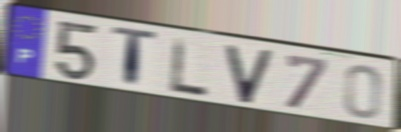0: (342, 63, 384, 121)
5: (53, 18, 101, 82)
7: (283, 51, 330, 113)
L: (169, 35, 210, 99)
T: (110, 25, 160, 93)
V: (223, 43, 277, 107)
